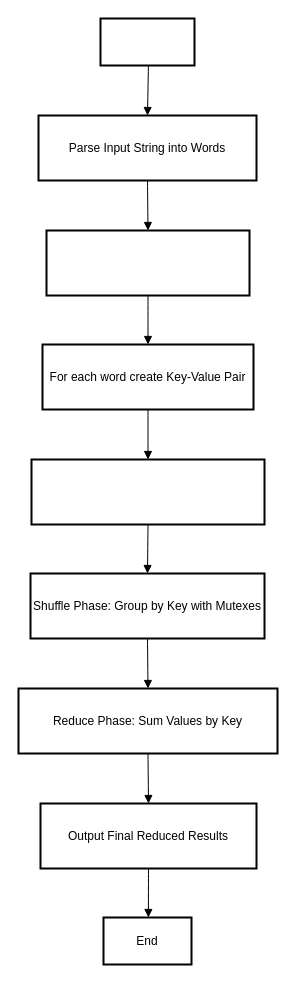
Some shapes in this 295 by 982 pixel diagram are drawn without their labels. Each missing label, with the centre of its shape:
"Initialize Map Phase Threads" goes at point 147,262.
"Start" goes at point 147,41.
"Store Key-Value Pairs in Map Output" goes at point 147,491.
